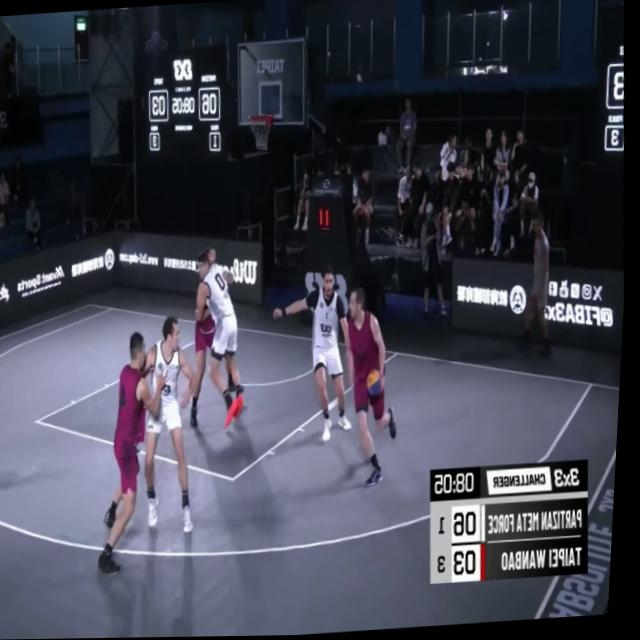ball: (367, 365, 392, 407)
hoop: (247, 107, 277, 157)
player: (91, 331, 170, 576), (268, 268, 368, 457), (338, 279, 412, 493), (142, 313, 208, 537), (192, 237, 260, 436), (184, 244, 241, 428)
